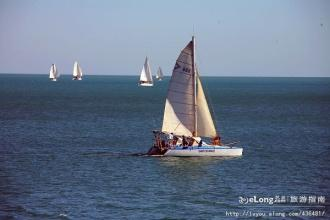fanchuan: (144, 36, 242, 162), (135, 59, 154, 87), (67, 59, 88, 82), (45, 62, 62, 84), (154, 67, 165, 82)
